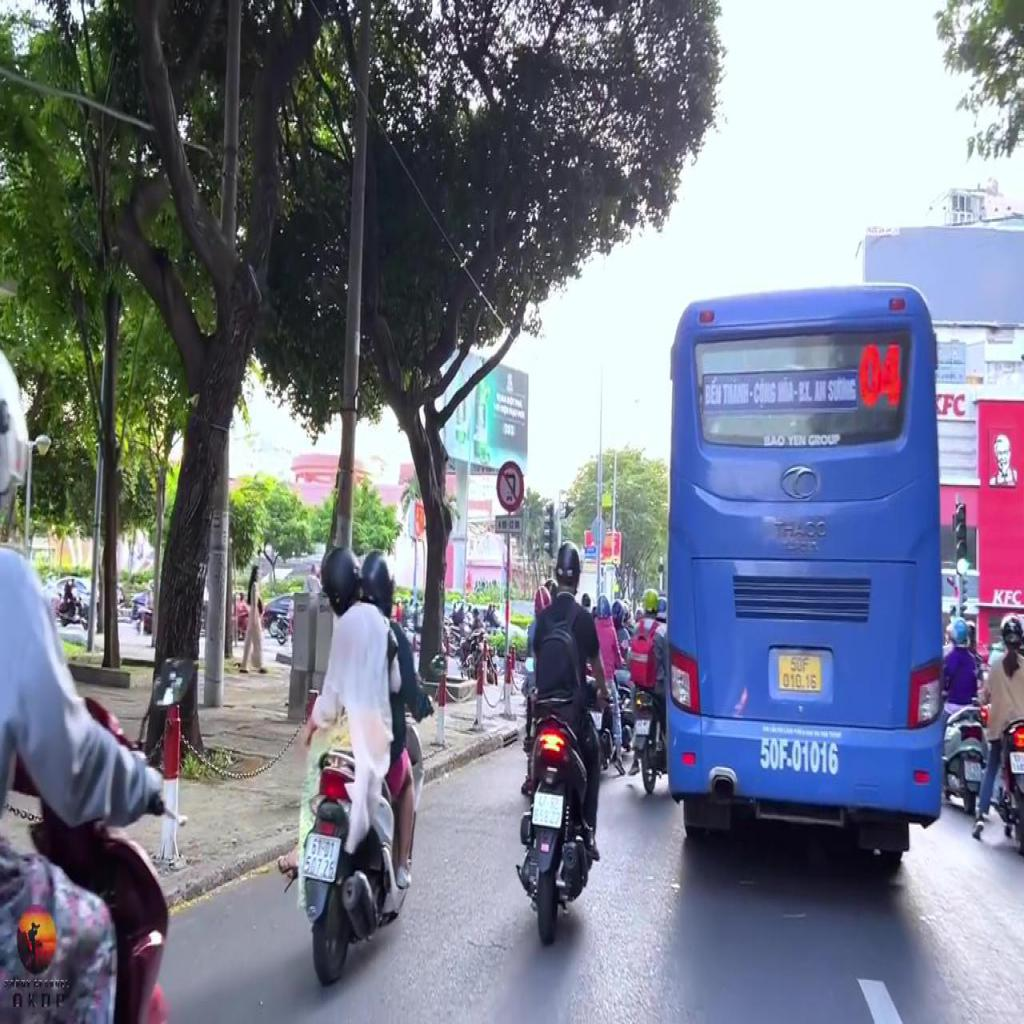cam_o_to_re_trai: (496, 458, 525, 511)
khac: (493, 516, 523, 535)
